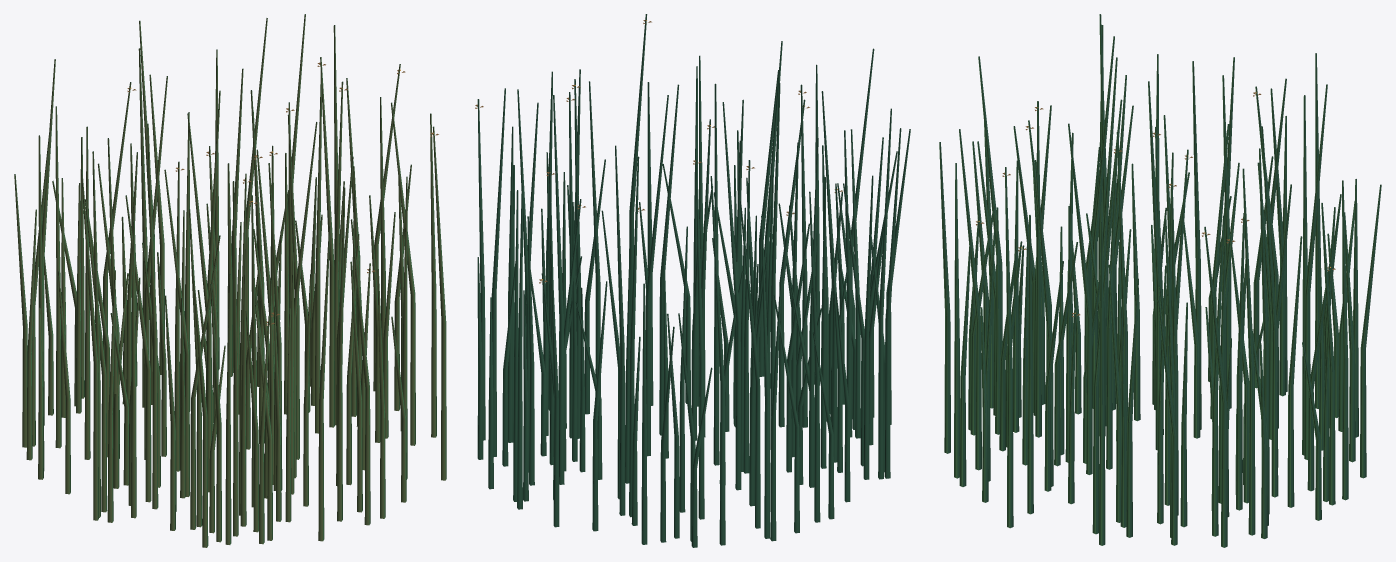
The model's file is Wetland_03_Juncos_Dense.glb.
The picture shows the model from 3 angles, left to right: view 1: azimuth 30°, elevation 25°; view 2: azimuth 150°, elevation 25°; view 3: azimuth 270°, elevation 25°; orthographic projection.
Parts seen in each view (by area): view 1: Wetland_03_Juncos_Dense; view 2: Wetland_03_Juncos_Dense; view 3: Wetland_03_Juncos_Dense.
Part boxes in pixels (<box>): Wetland_03_Juncos_Dense: <box>14,14,446,547</box>; Wetland_03_Juncos_Dense: <box>475,14,910,547</box>; Wetland_03_Juncos_Dense: <box>939,14,1381,547</box>.
Size of the model in its own units: 2.06 by 2 by 2.13.
